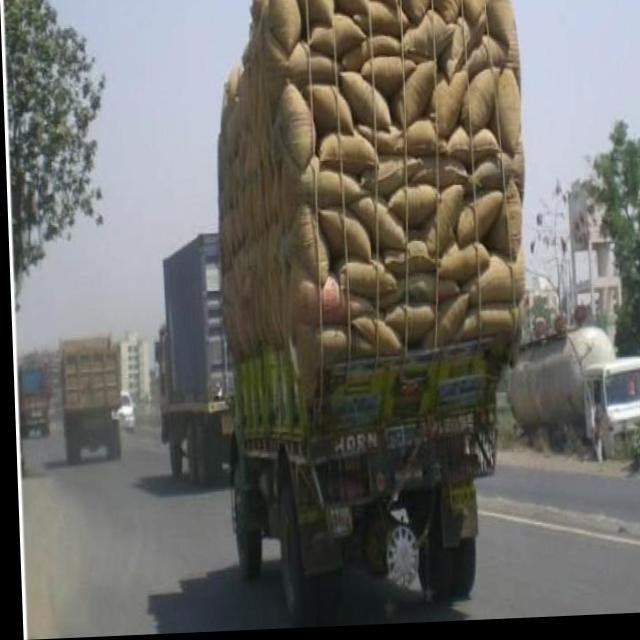covered: (506, 306, 614, 453), (155, 227, 223, 431), (15, 346, 50, 444)
uncovered: (228, 0, 537, 608), (54, 324, 123, 446)
